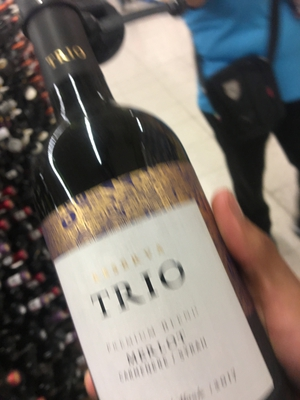trio merlot: (16, 23, 276, 400)
